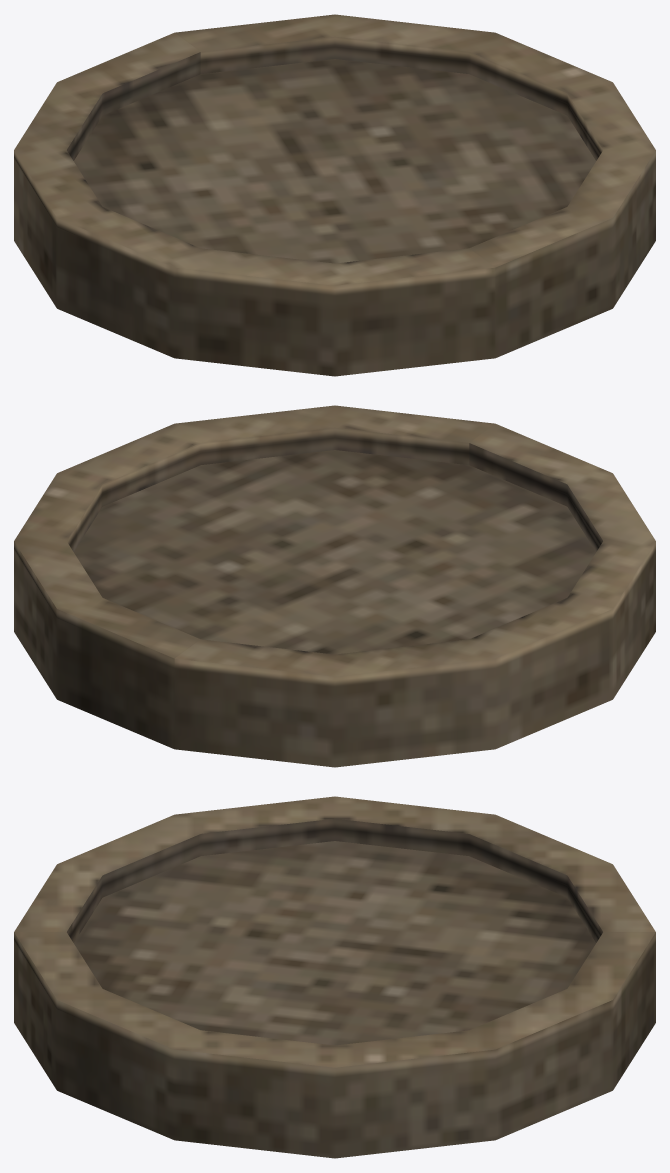
The picture shows the model from 3 angles, top to bottom: view 1: azimuth 30°, elevation 25°; view 2: azimuth 150°, elevation 25°; view 3: azimuth 270°, elevation 25°; orthographic projection.
Visible parts, largest first — view 1: Base; view 2: Base; view 3: Base.
Part boxes in pixels (x1,y1,x2,y2): Base: (14,14,655,376); Base: (14,405,655,767); Base: (14,796,655,1158).
Size of the model in its own units: 101 by 15.7 by 101.
